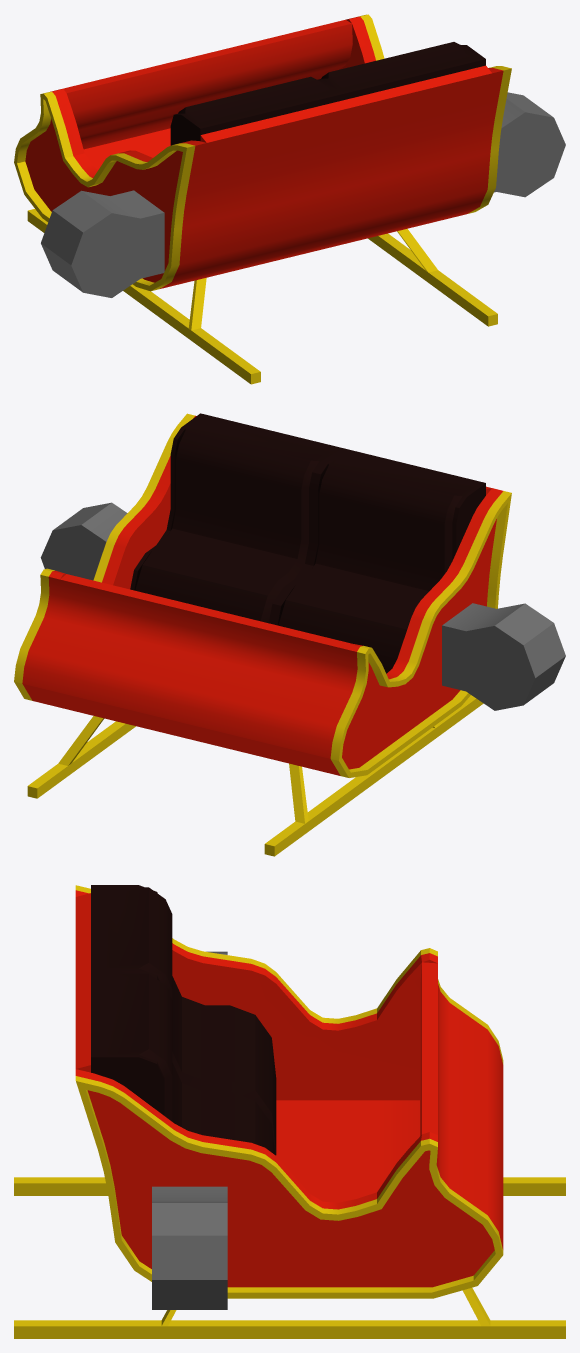
Rendered from sledfacesfixed.fbx.
The picture shows the model from 3 angles, top to bottom: view 1: azimuth 30°, elevation 25°; view 2: azimuth 150°, elevation 25°; view 3: azimuth 270°, elevation 25°; orthographic projection. The views are drawn at different scales.
Visible parts, largest first — view 1: Combine; view 2: Combine; view 3: Combine.
Boxes of the visible parts, <box> form: Combine: <box>14,14,565,384</box>; Combine: <box>14,413,565,856</box>; Combine: <box>14,885,565,1338</box>.
Size of the model in its own units: 352 by 163 by 276.
